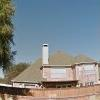Chimney: (36, 37, 51, 70)
